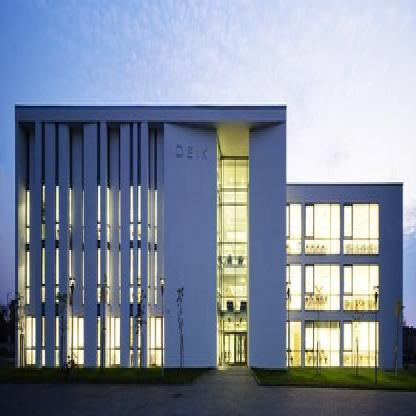Building Outline: (14, 102, 403, 372)
Deco: (176, 144, 208, 160)
Door: (224, 332, 247, 366)
Facade: (14, 102, 403, 374)
Floor Slab: (282, 312, 403, 318), (282, 256, 403, 262), (26, 308, 164, 312), (26, 244, 164, 248)
Glass Wall: (217, 134, 249, 368), (343, 204, 379, 254), (305, 204, 340, 254), (343, 320, 379, 366), (343, 264, 379, 310), (305, 320, 340, 366), (305, 264, 340, 310), (282, 204, 301, 254), (282, 320, 301, 366), (282, 264, 301, 310)
Pillar: (84, 122, 97, 368), (59, 122, 70, 368), (45, 122, 56, 368), (30, 122, 41, 368), (121, 122, 130, 368), (110, 122, 119, 316), (141, 122, 148, 368), (101, 122, 107, 368), (157, 122, 164, 304), (133, 122, 138, 368), (150, 122, 155, 304)
Window: (151, 316, 165, 366), (107, 316, 120, 368), (70, 316, 84, 364), (27, 316, 36, 364), (107, 248, 110, 306), (107, 186, 110, 244), (138, 248, 141, 302), (27, 190, 30, 244), (56, 248, 59, 302), (131, 248, 134, 302), (138, 186, 141, 240), (42, 186, 45, 240), (98, 248, 101, 302), (56, 186, 59, 240), (98, 186, 101, 240), (131, 186, 134, 240), (42, 248, 45, 302), (27, 252, 30, 304), (98, 316, 101, 368), (42, 316, 45, 366), (56, 316, 59, 366), (131, 316, 134, 366), (138, 316, 141, 366), (148, 190, 150, 244), (82, 190, 84, 244), (82, 250, 84, 304), (119, 190, 121, 244), (119, 252, 121, 306), (148, 250, 150, 304), (155, 250, 157, 304), (155, 190, 157, 244), (70, 248, 71, 302), (70, 186, 71, 240)
